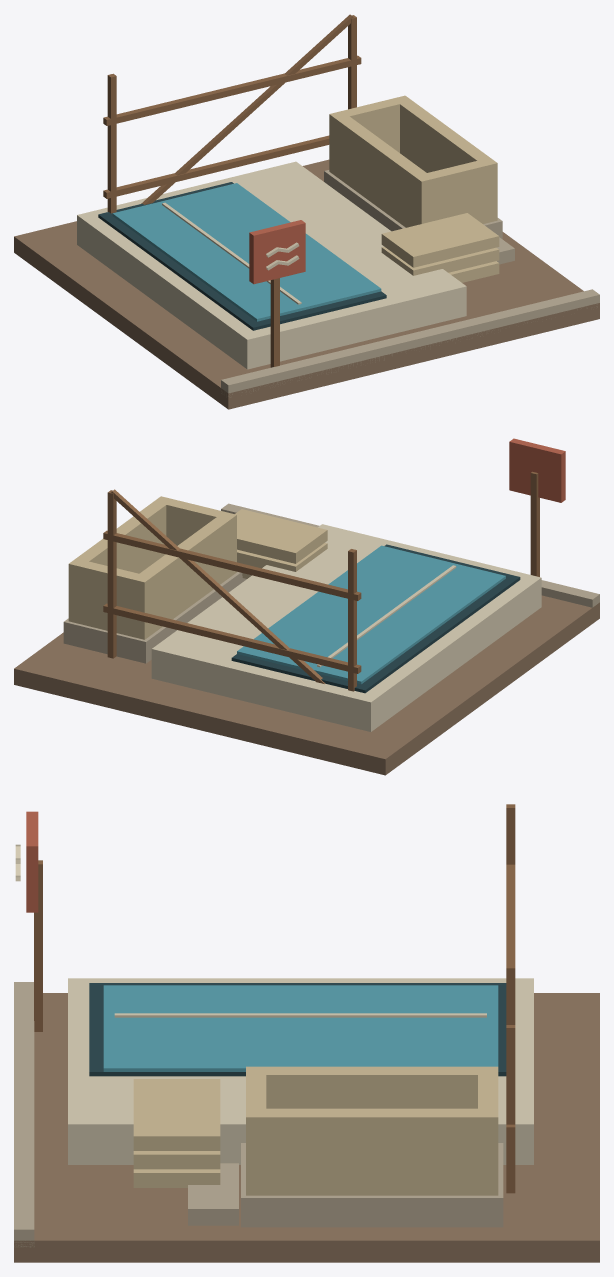
The model's file is swimming-pool-sunrise-half-built.glb.
3 renders of one model, top to bottom at view 1: azimuth 30°, elevation 25°; view 2: azimuth 150°, elevation 25°; view 3: azimuth 270°, elevation 25°, orthographic. The views are drawn at different scales.
Visible parts, largest first — view 1: swimming-pool; view 2: swimming-pool; view 3: swimming-pool.
Boxes of the visible parts, <box> form: swimming-pool: <box>14,14,599,409</box>; swimming-pool: <box>14,438,599,775</box>; swimming-pool: <box>14,804,599,1262</box>.
Bounding box in the file's own units: 2.88 × 1.38 × 2.88.
